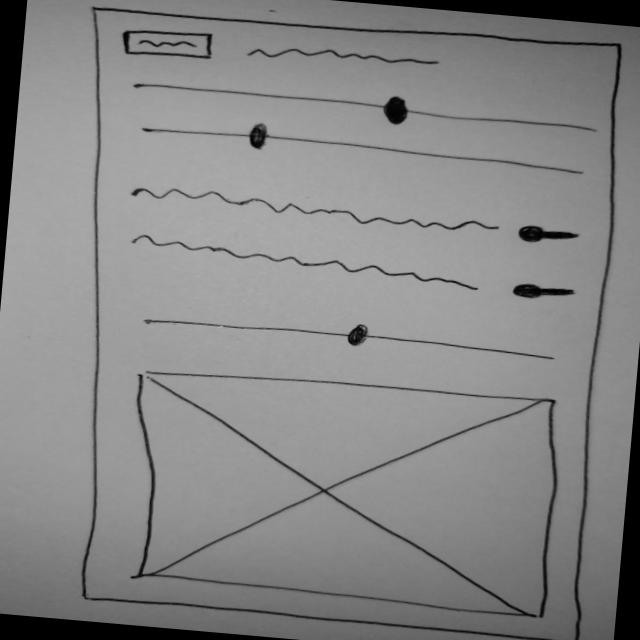button: (119, 24, 218, 63)
image: (113, 360, 570, 624)
input: (33, 0, 637, 640)
slider: (123, 70, 603, 143), (138, 110, 594, 180), (139, 305, 559, 367)
text: (128, 230, 493, 298), (131, 180, 505, 240), (244, 40, 445, 74)
toggle: (507, 278, 581, 307), (513, 220, 585, 248)
